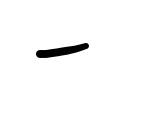minus: (36, 41, 89, 58)
